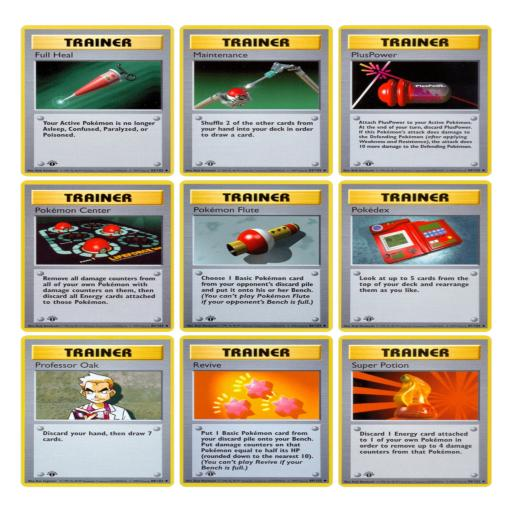card: (338, 179, 493, 334), (179, 334, 333, 488), (180, 24, 335, 177), (181, 179, 334, 334), (21, 335, 175, 488), (21, 179, 174, 333), (339, 335, 493, 487), (340, 25, 492, 177), (23, 24, 173, 178)
